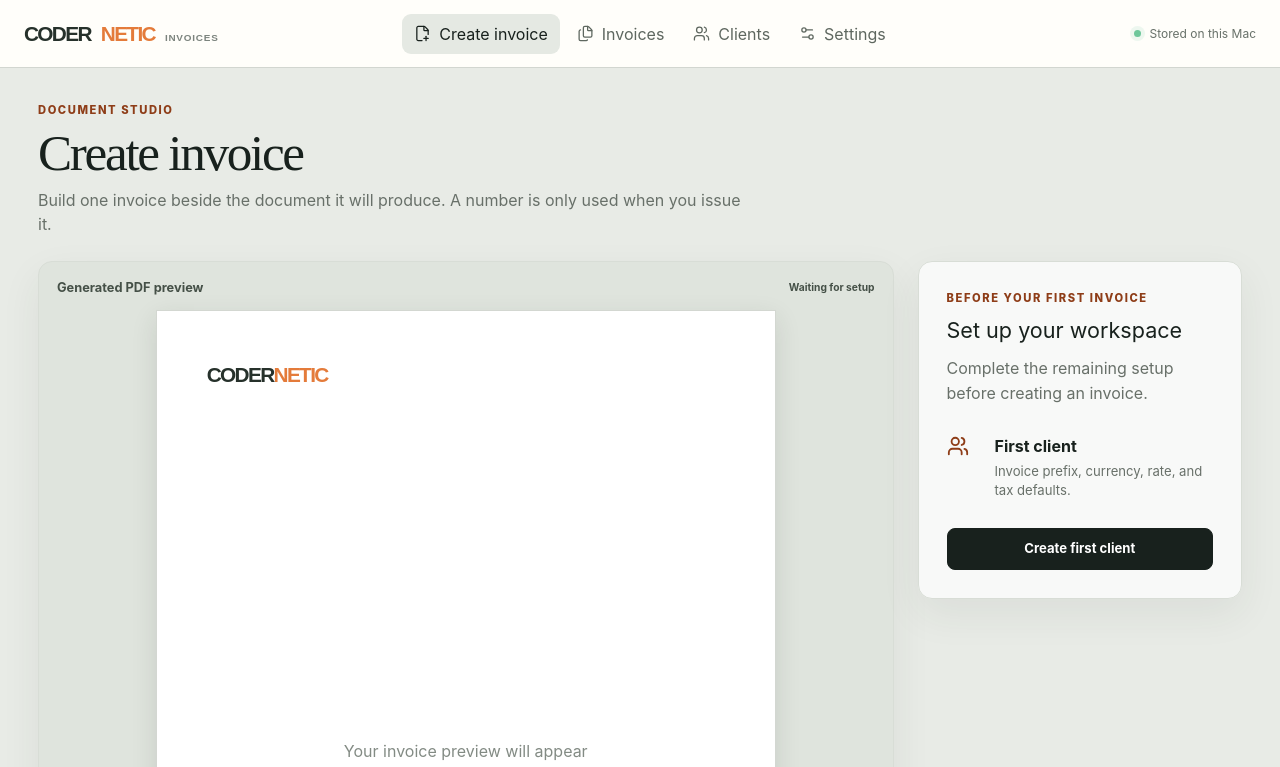
Scenario: client management › prefills a new UK-taxable client with the issuer's standard VAT rate
Click the button "Clients" at (732, 34), box [681, 14, 782, 54]
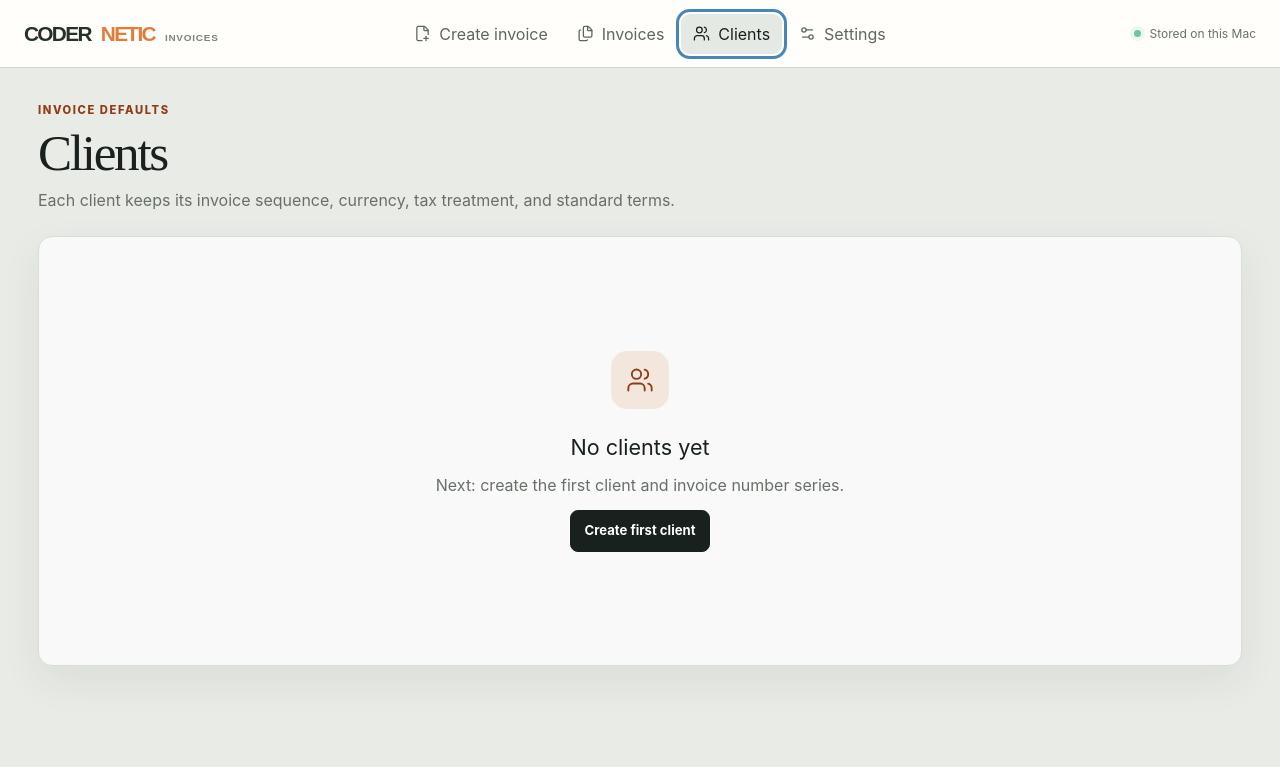
Click the button "Create first client" at (640, 531), box [570, 510, 710, 552]
(page scrolled)
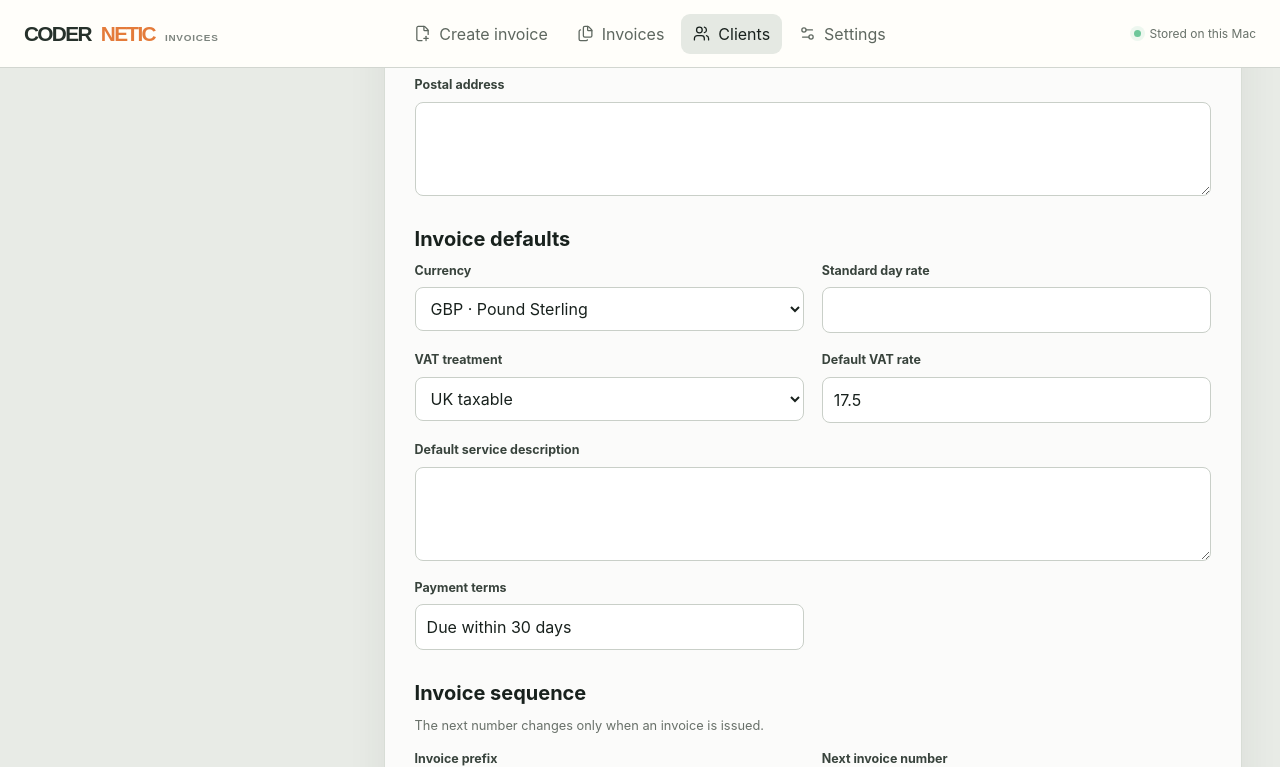
Now the field labelled "Default VAT rate" holds "17.5", box [822, 377, 1211, 423]
